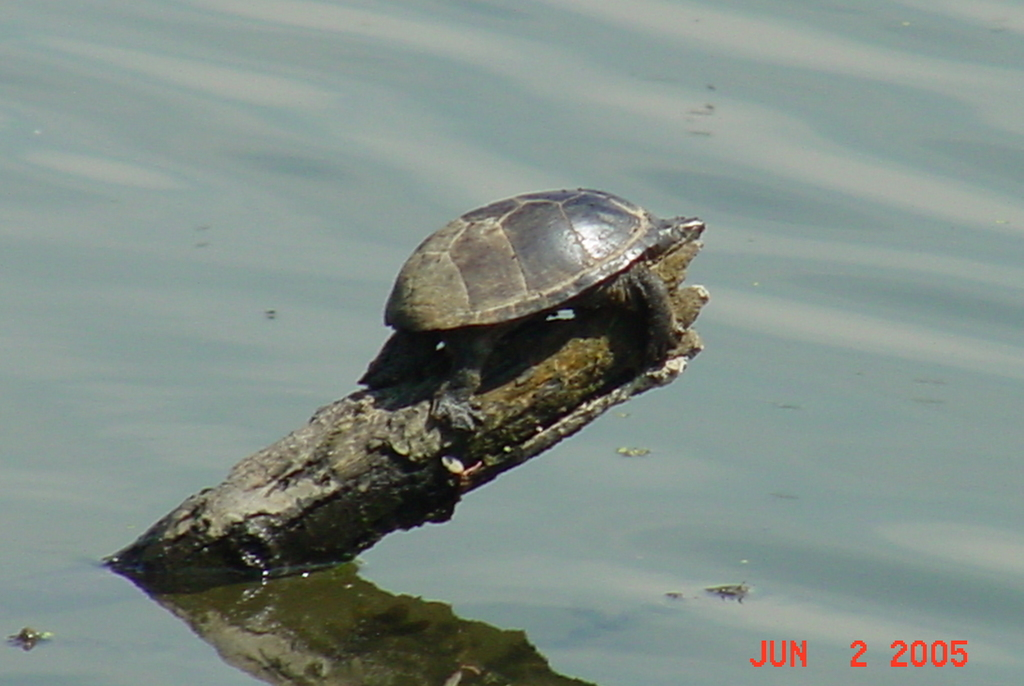Sea turtles: (353, 179, 712, 430)
